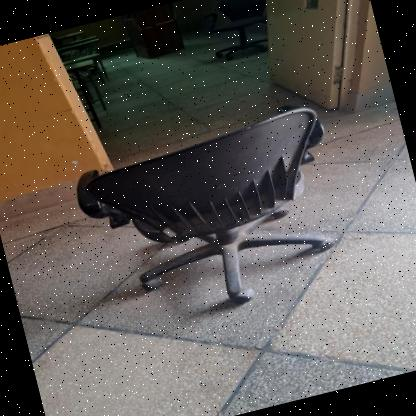chair: (59, 87, 372, 343)
